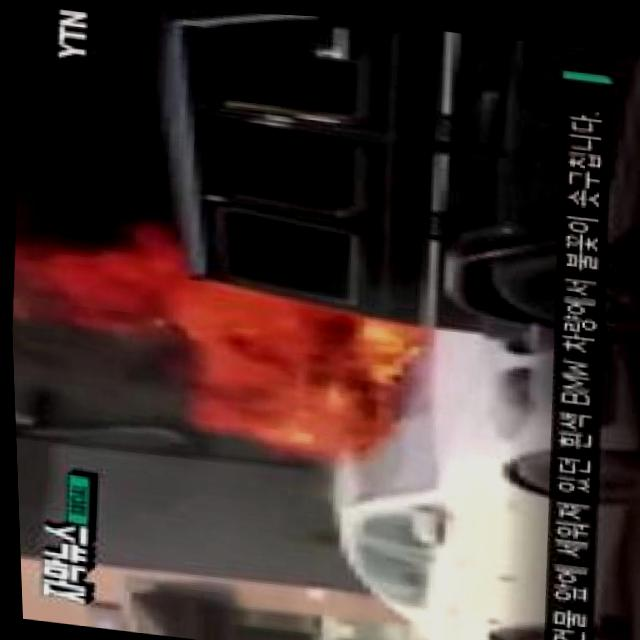Fire: (69, 221, 410, 443)
